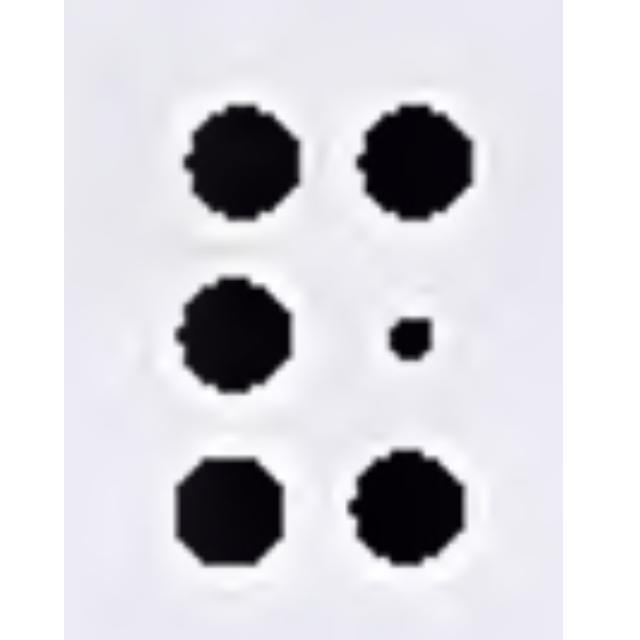ay: (179, 100, 469, 574)
